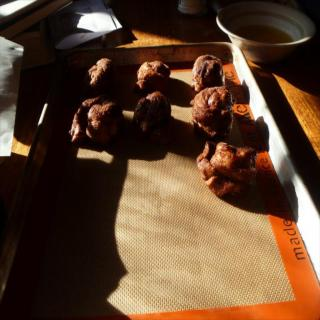Cookie: (196, 138, 259, 199), (67, 92, 125, 144), (128, 86, 172, 149), (188, 86, 236, 142), (132, 56, 172, 104), (191, 52, 226, 92), (89, 52, 119, 87)
